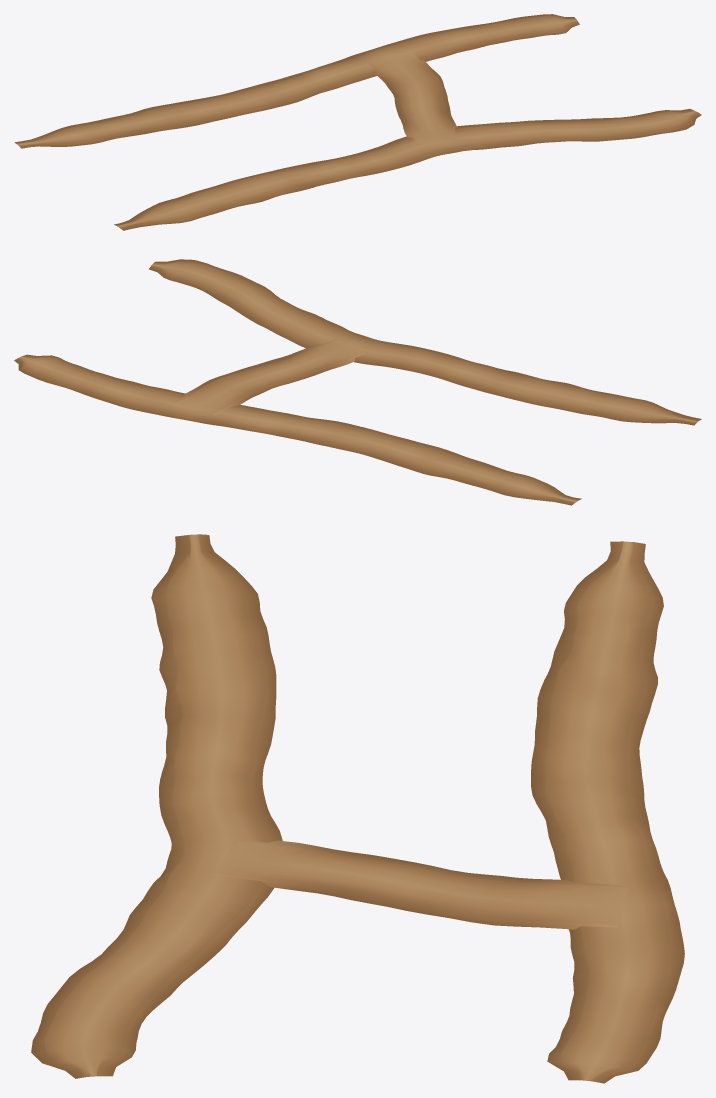
Rendered from Env_Paths.fbx.
3 renders of one model, top to bottom at view 1: azimuth 30°, elevation 25°; view 2: azimuth 150°, elevation 25°; view 3: azimuth 270°, elevation 25°, orthographic. The views are drawn at different scales.
Parts seen in each view (by area): view 1: Env_Paths; view 2: Env_Paths; view 3: Env_Paths.
Boxes of the visible parts, x1,y1,x2,y2 form: Env_Paths: (14,14,701,230); Env_Paths: (14,259,701,505); Env_Paths: (31,534,684,1083).
Size of the model in its own units: 13.66 by 0.0521 by 6.91.
